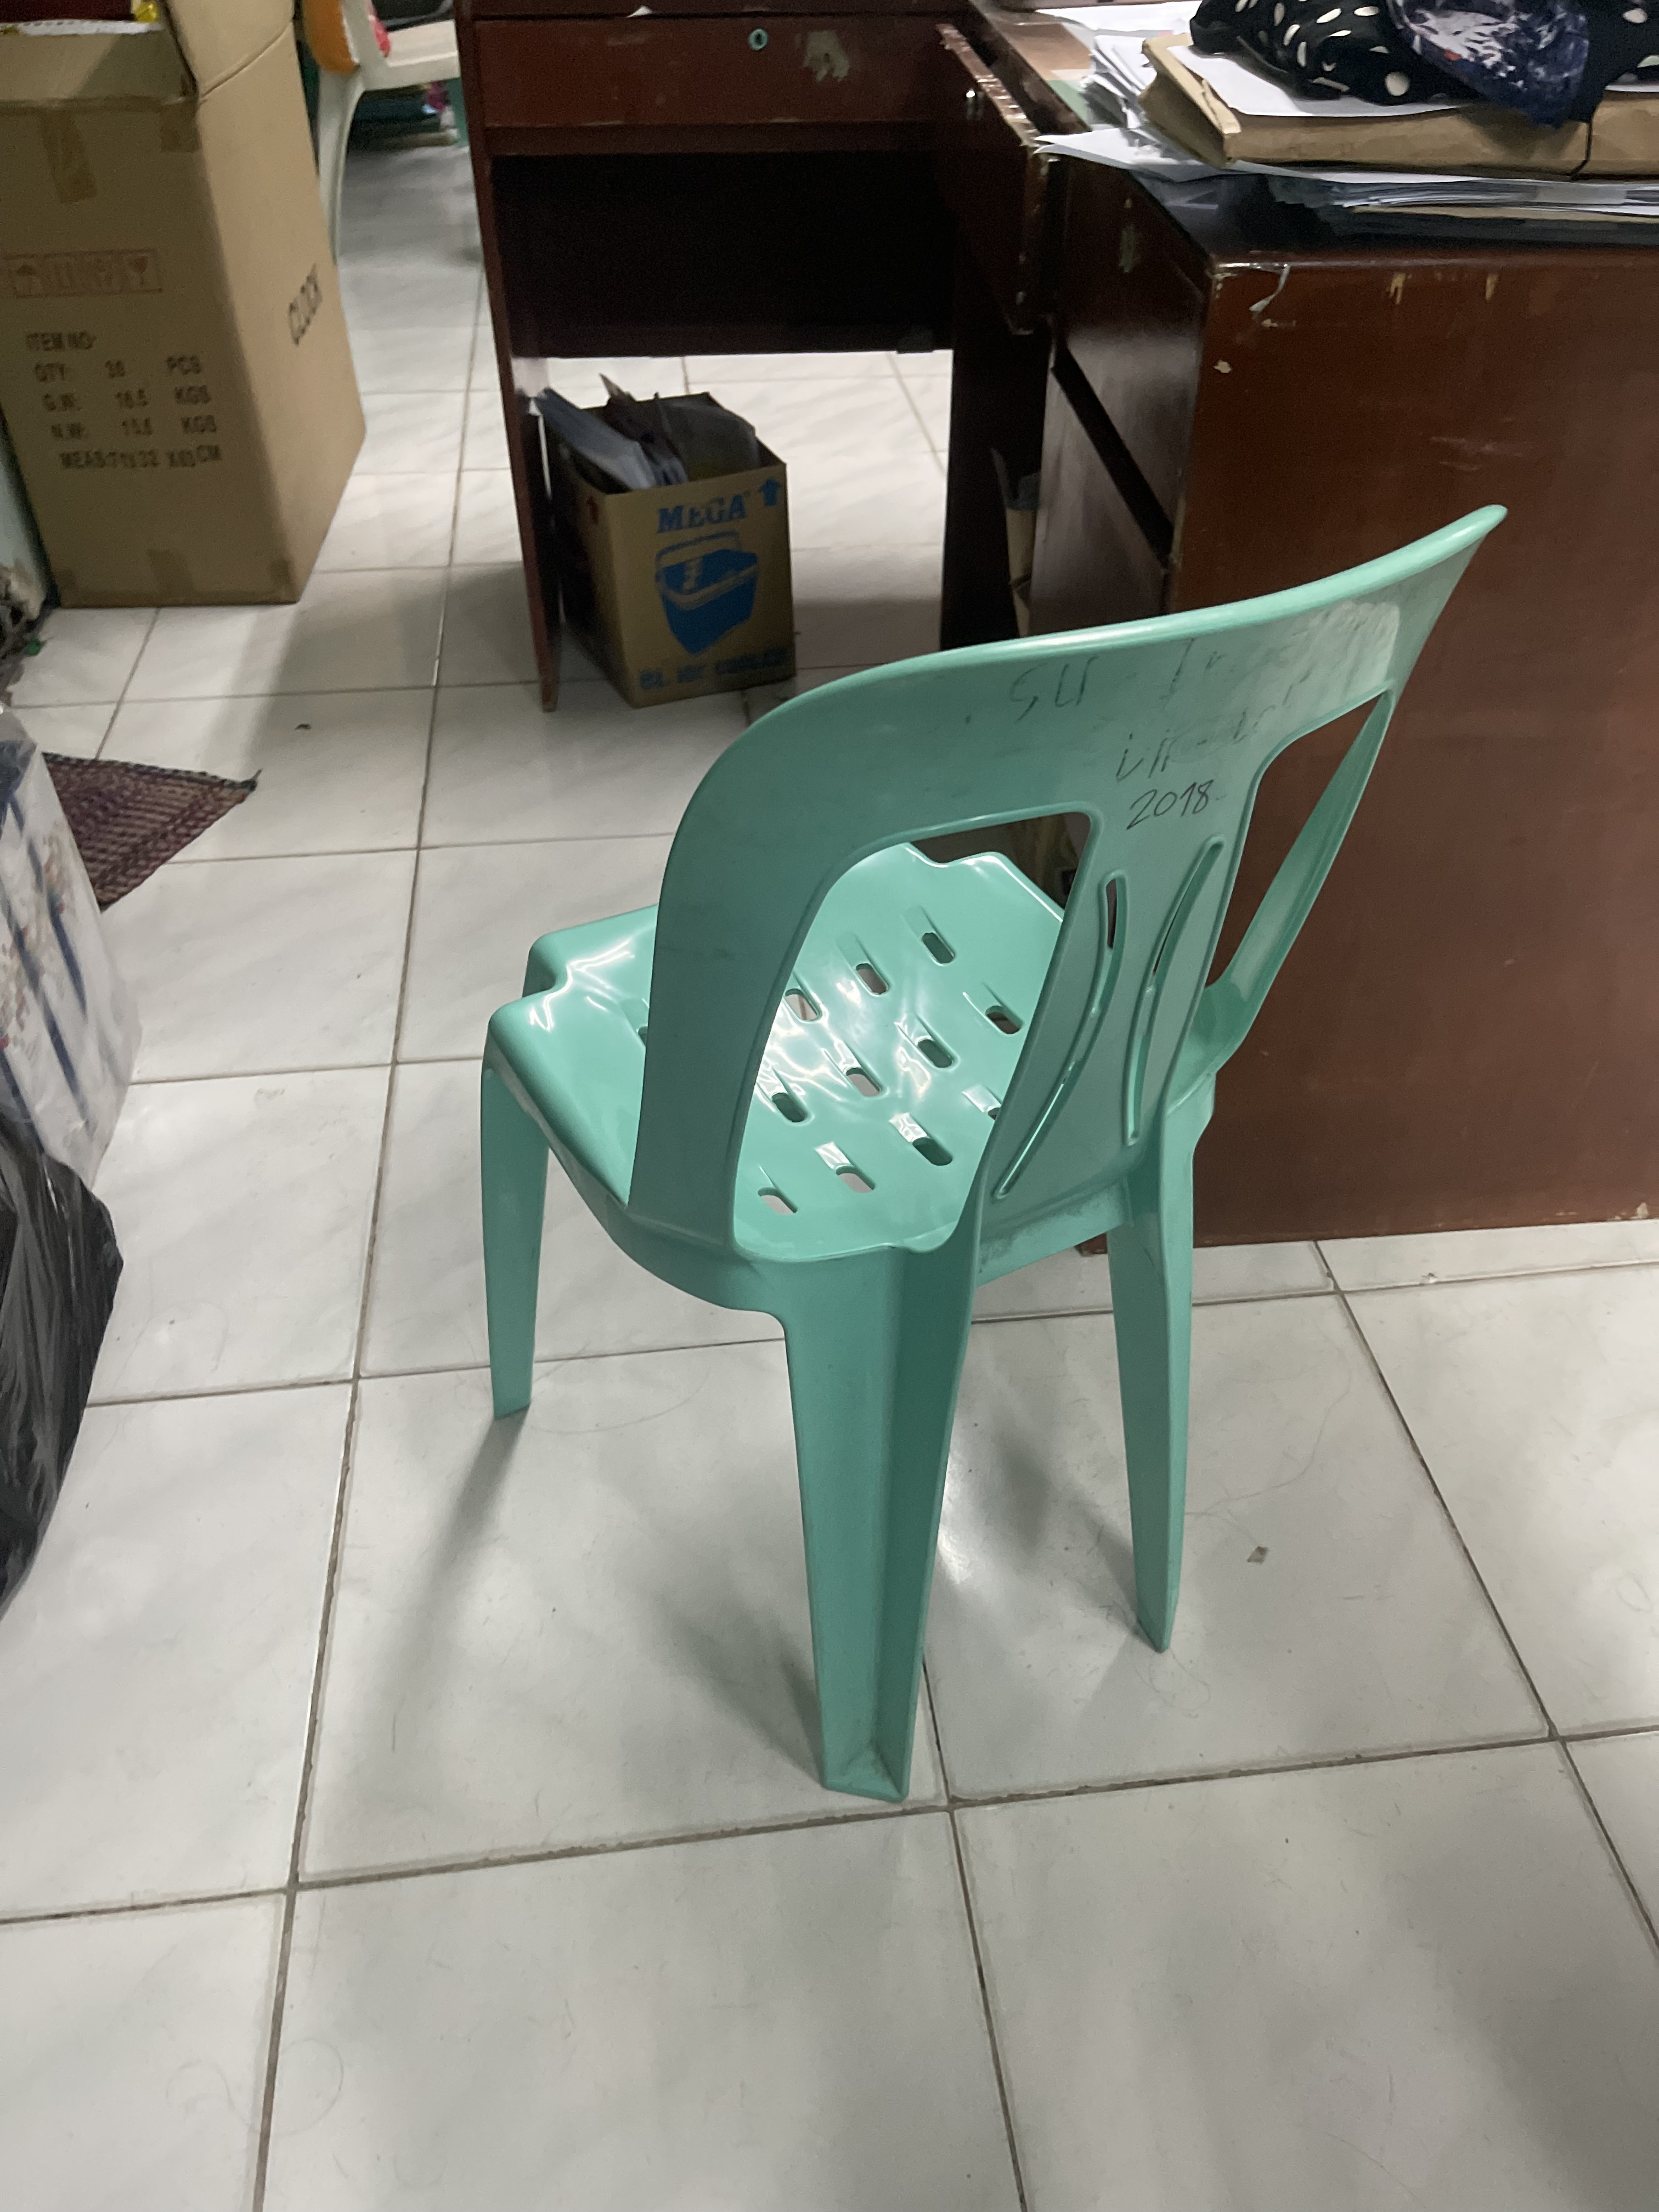chair2: (474, 493, 1527, 1817)
